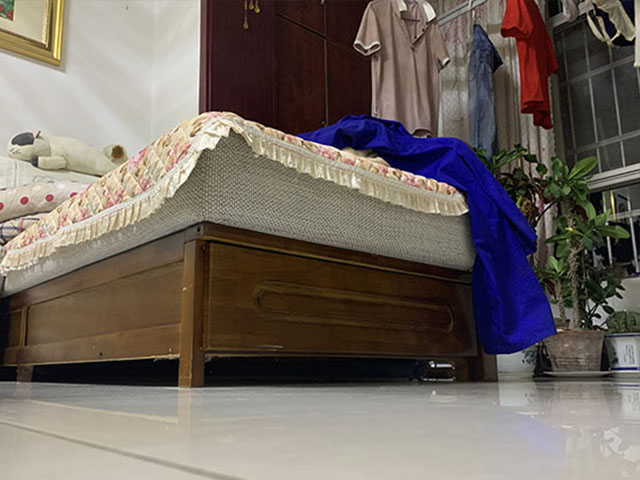sofa: (1, 112, 486, 389)
